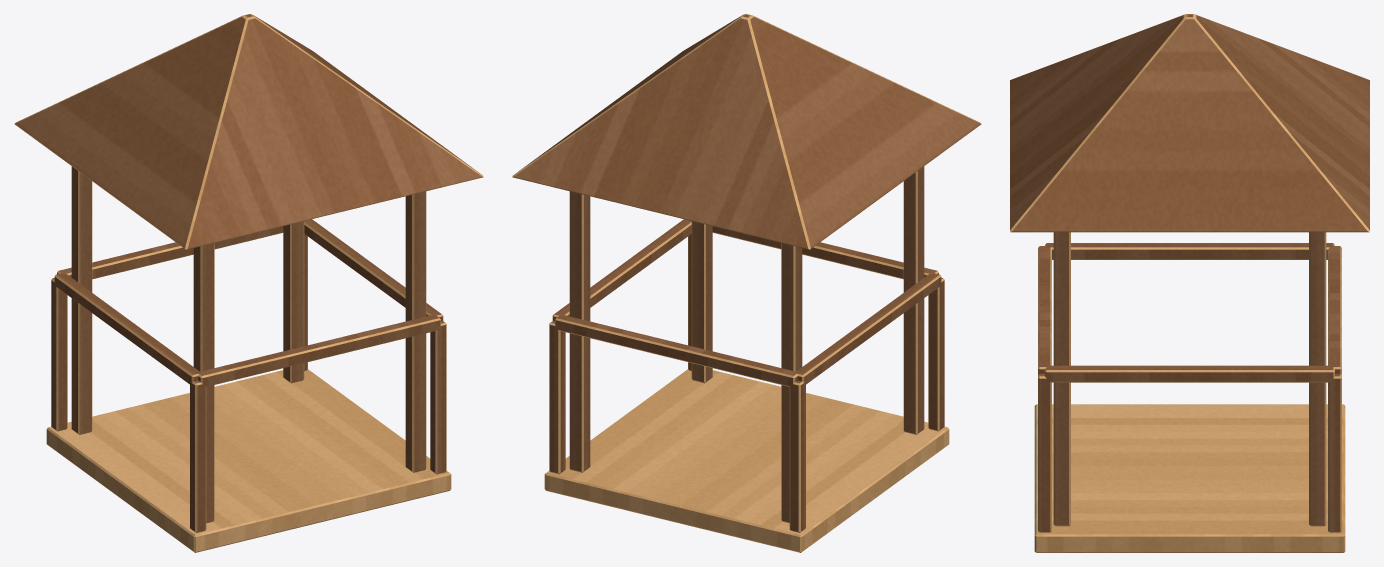
The model's file is sm_watchtower_platform.glb.
The picture shows the model from 3 angles, left to right: view 1: azimuth 30°, elevation 25°; view 2: azimuth 150°, elevation 25°; view 3: azimuth 270°, elevation 25°; orthographic projection. The views are drawn at different scales.
Parts seen in each view (by area): view 1: sm_watchtower_platform; view 2: sm_watchtower_platform; view 3: sm_watchtower_platform.
Part boxes in pixels (x1,y1,x2,y2): sm_watchtower_platform: [14, 14, 483, 552]; sm_watchtower_platform: [512, 14, 981, 552]; sm_watchtower_platform: [1010, 14, 1369, 552].
Size of the model in its own units: 1.04 by 1.51 by 1.04.
Materials: 1 (1 with a texture image).
